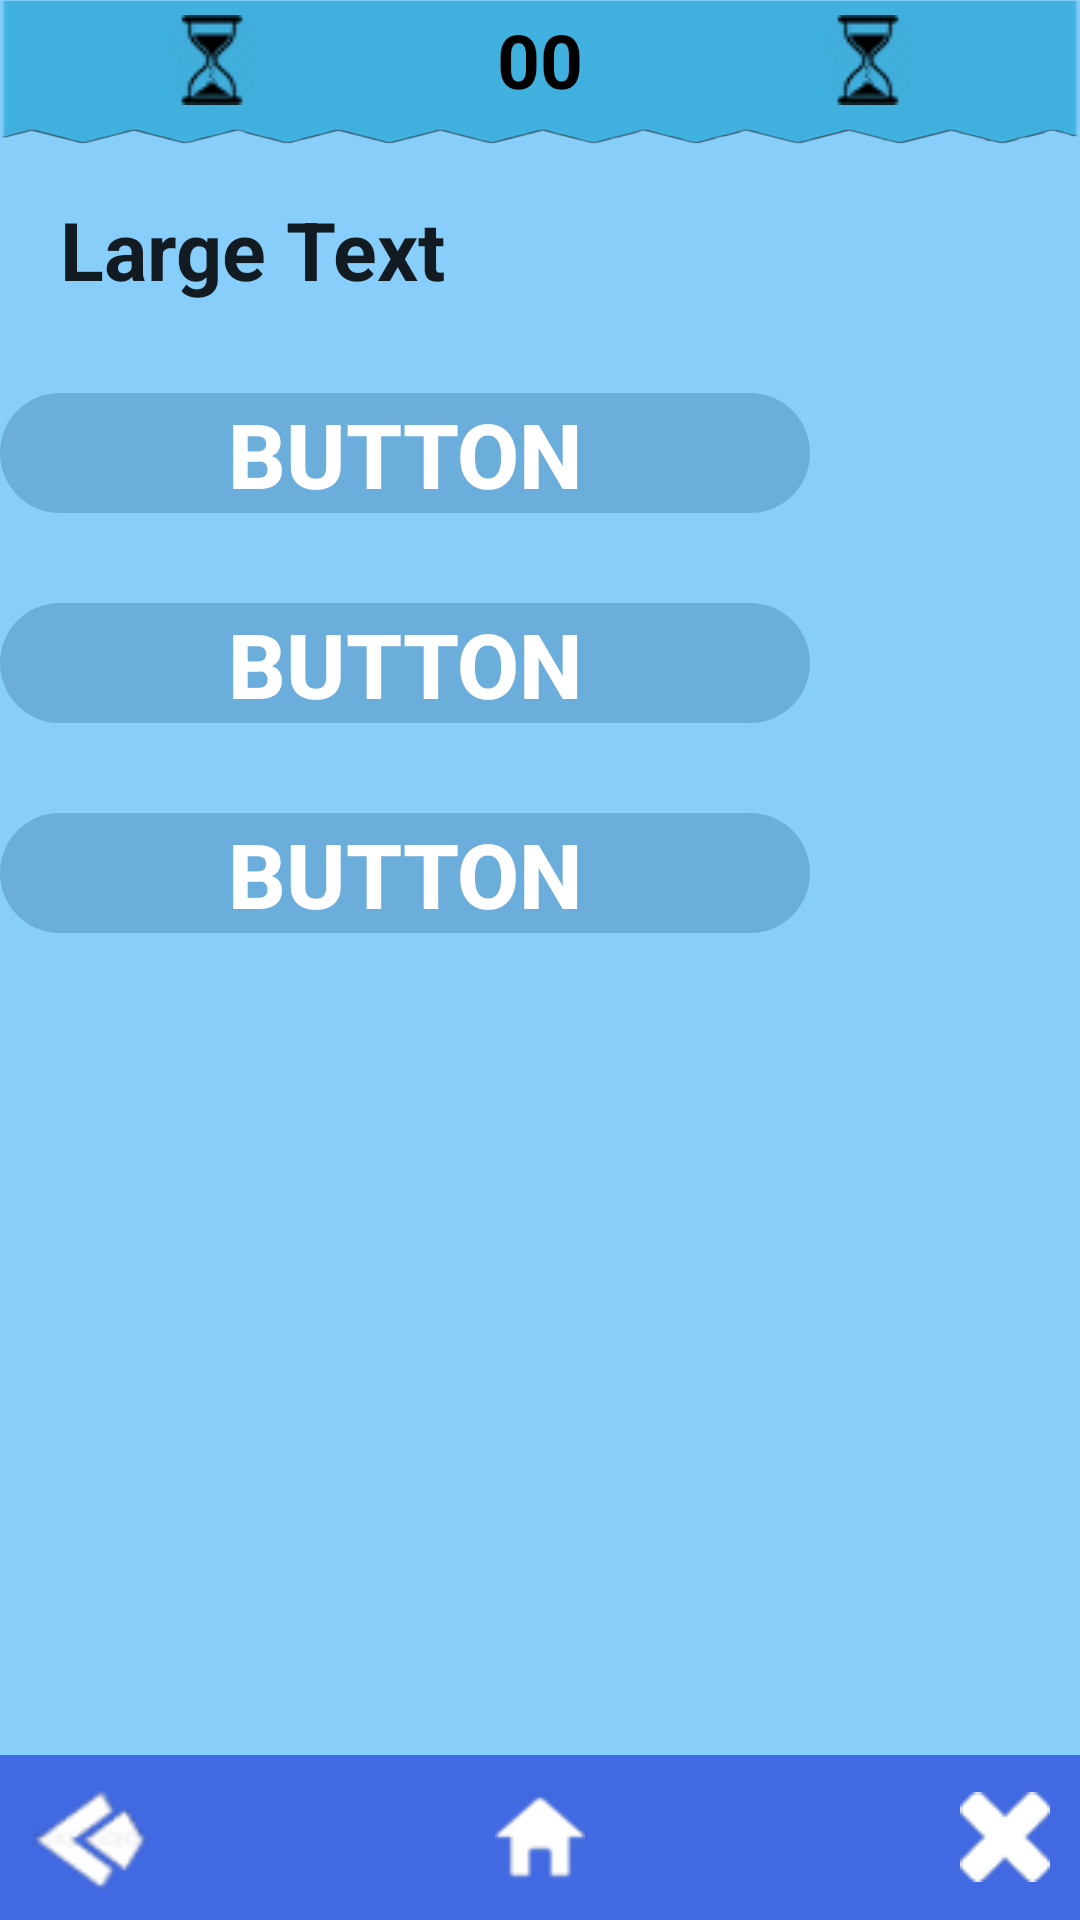

Screen size 1080w x 1920h. Icon name, then its center in pixels as point (x, y):
close: point (1005, 1837)
homy: point (540, 1837)
timer: point (212, 60), point (868, 60)
